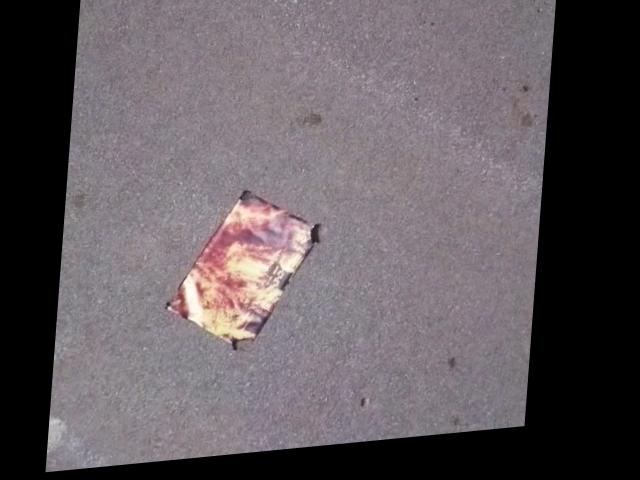fire-poster: (165, 187, 332, 362)
